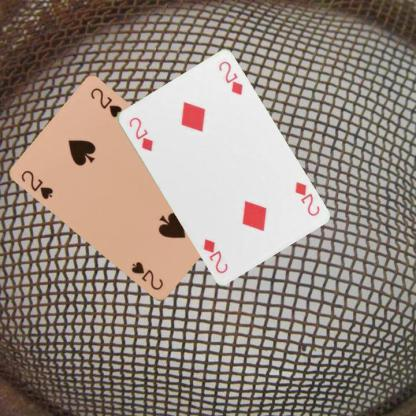2d: (292, 179, 321, 217), (126, 115, 154, 152)
2s: (18, 168, 55, 201)
